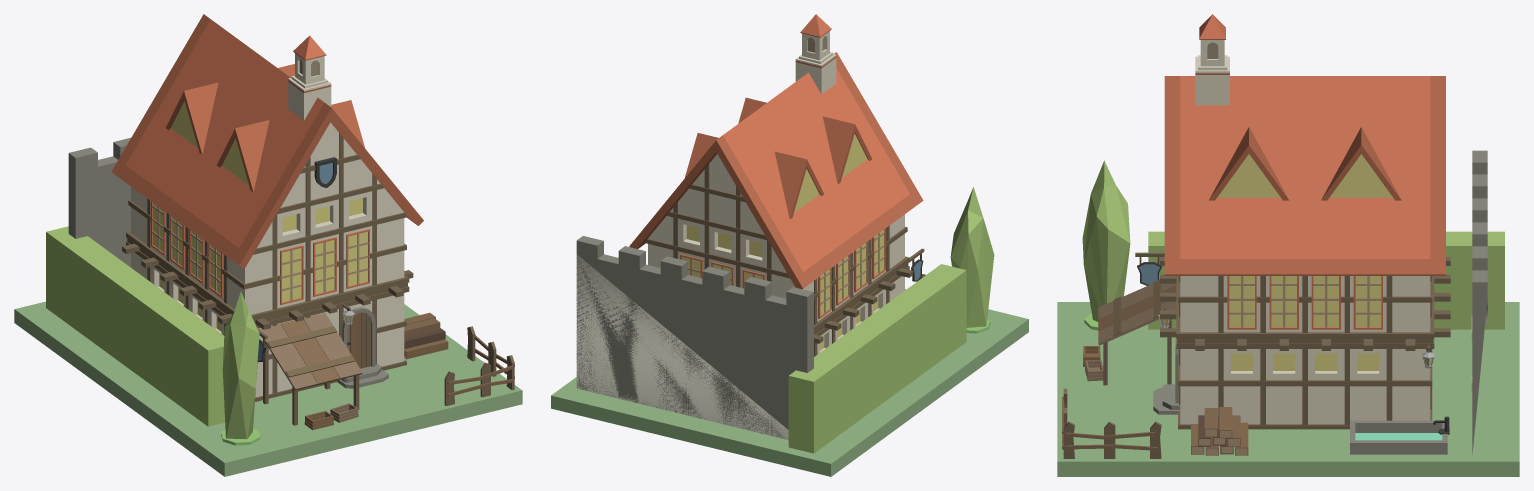
The model's file is House_8.fbx.
3 views of the same model, side by side, from view 1: azimuth 30°, elevation 25°; view 2: azimuth 150°, elevation 25°; view 3: azimuth 270°, elevation 25° (orthographic). The views are drawn at different scales.
Parts seen in each view (by area): view 1: House_8; view 2: House_8; view 3: House_8.
Boxes of the visible parts, x1,y1,x2,y2 form: House_8: (14, 14, 522, 476); House_8: (551, 14, 1028, 476); House_8: (1057, 14, 1519, 476).
Bounding box in the file's own units: 190 × 214 × 232.
Materials: 1 (1 with a texture image).
